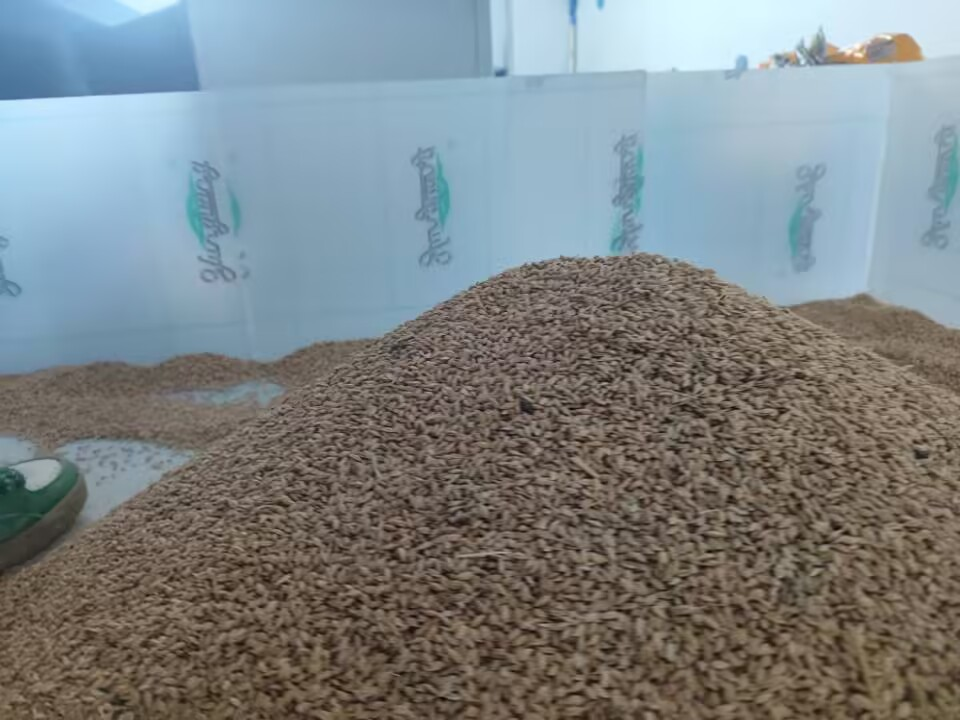Grain: (293, 247, 938, 694)
